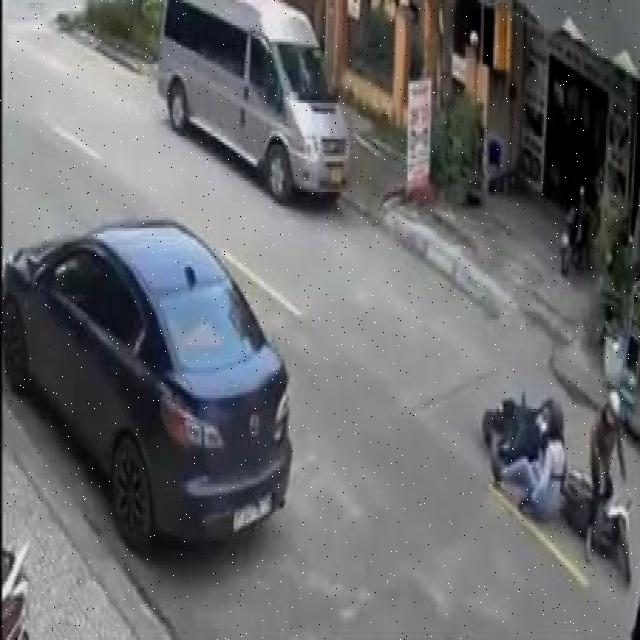accident: (478, 362, 639, 601)
